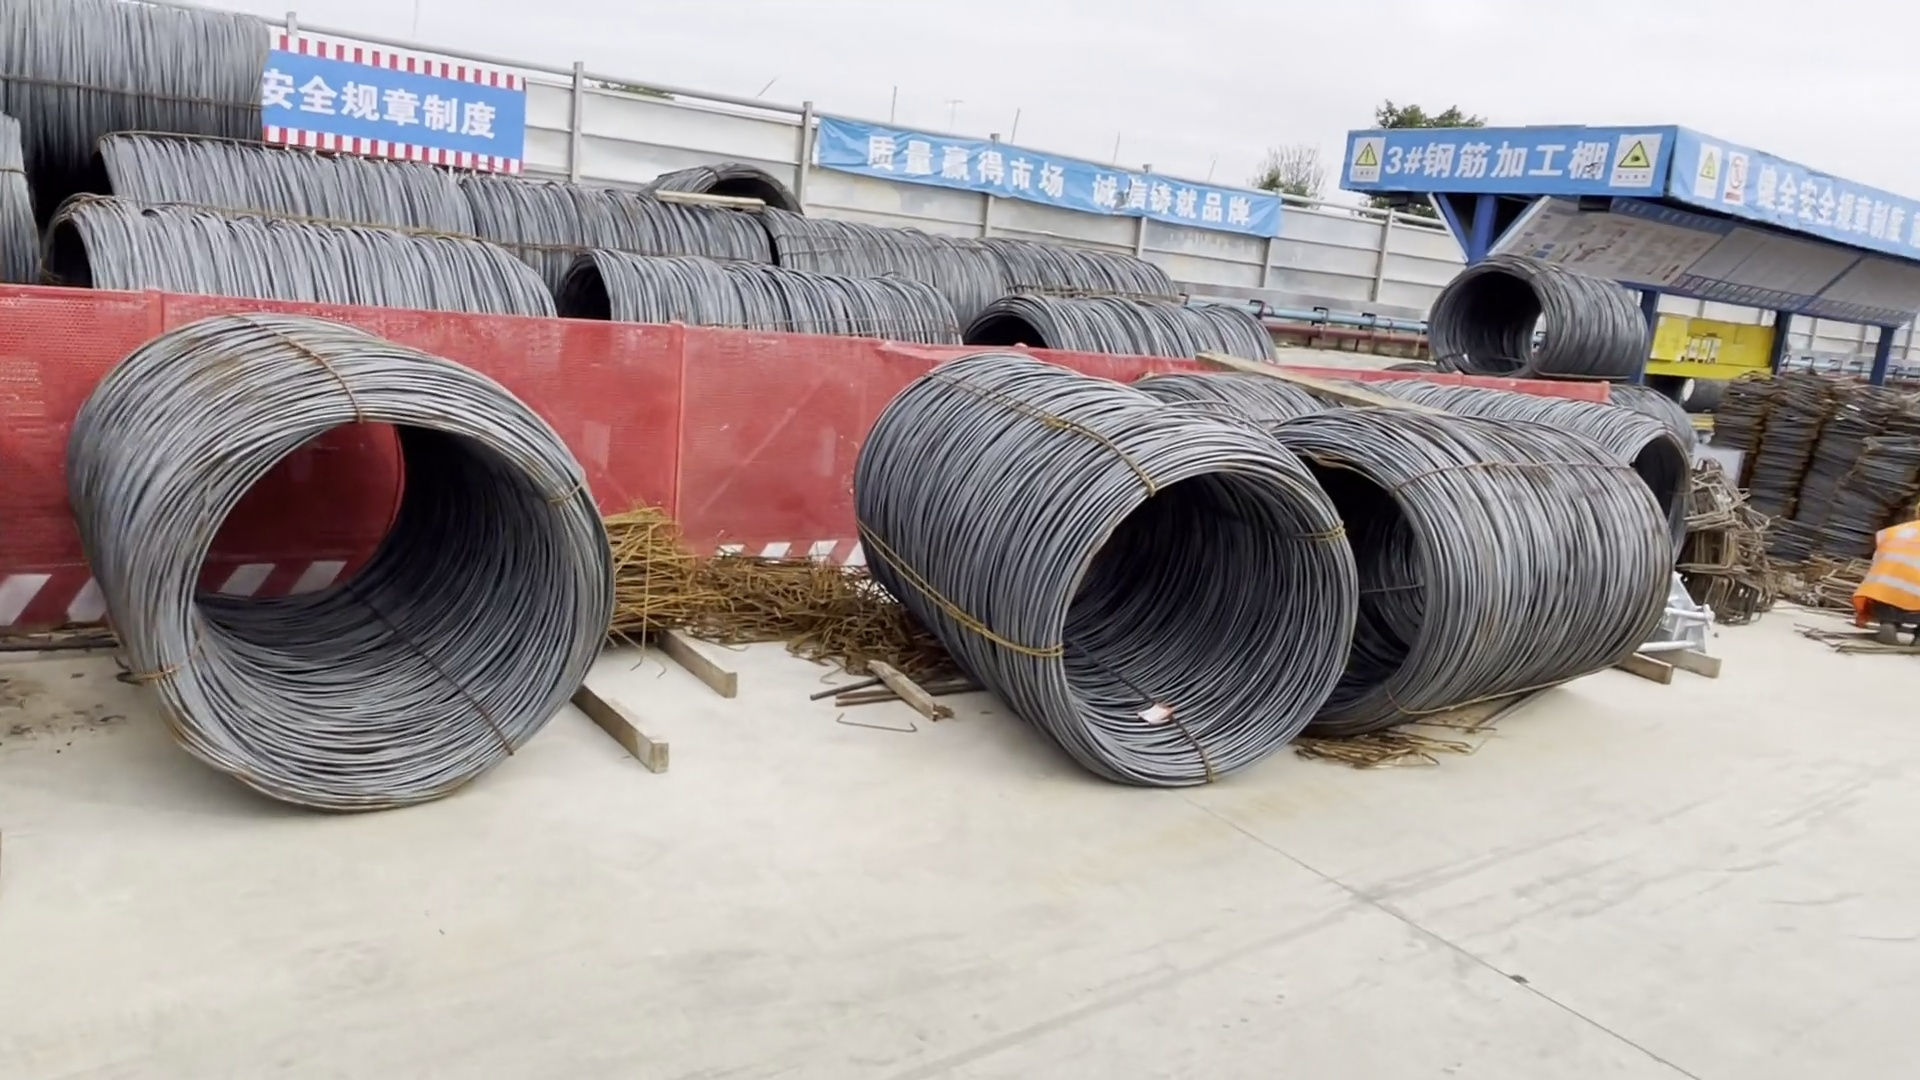fence: (279, 23, 1306, 280)
person: (1854, 475, 1913, 652)
slogan: (859, 135, 1253, 236), (260, 36, 504, 150), (1678, 144, 1919, 248), (1356, 126, 1661, 184)
vest: (1863, 529, 1920, 605)
